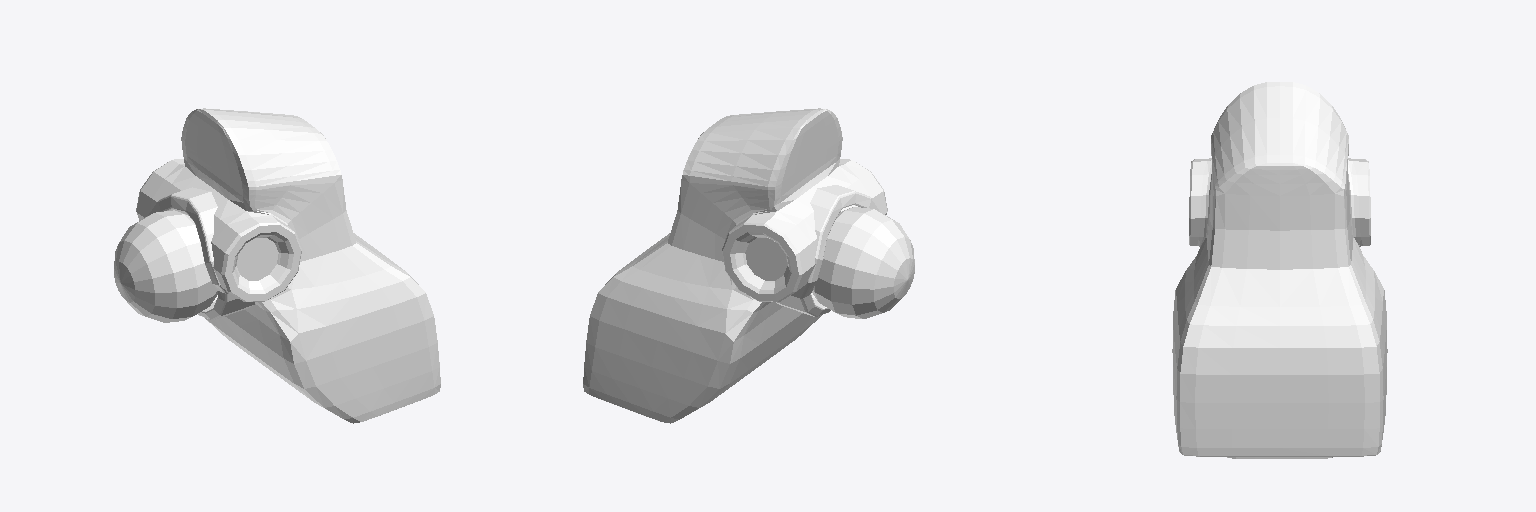
Rendered from Brazo_Derecho.obj.
3 renders of one model, left to right at view 1: azimuth 30°, elevation 25°; view 2: azimuth 150°, elevation 25°; view 3: azimuth 270°, elevation 25°, orthographic.
Parts seen in each view (by area): view 1: rig_test.002; view 2: rig_test.002; view 3: rig_test.002.
Part boxes in pixels (left/top/right/bottom): rig_test.002: left=114, top=108, right=440, bottom=423; rig_test.002: left=583, top=108, right=914, bottom=423; rig_test.002: left=1172, top=82, right=1387, bottom=458.
Size of the model in its own units: 39.37 by 41.63 by 26.65.